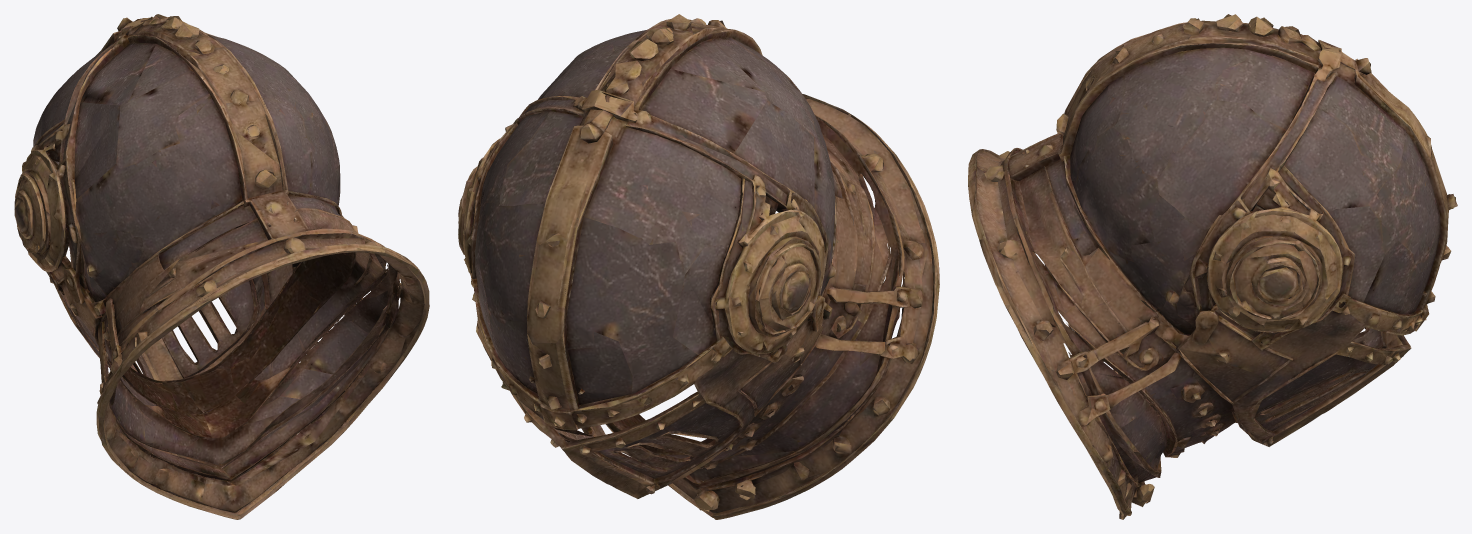
The picture shows the model from 3 angles, left to right: view 1: azimuth 30°, elevation 25°; view 2: azimuth 150°, elevation 25°; view 3: azimuth 270°, elevation 25°; orthographic projection. The views are drawn at different scales.
Visible parts, largest first — view 1: geometry_0; view 2: geometry_0; view 3: geometry_0.
Part boxes in pixels (x1,y1,x2,y2): geometry_0: (14,14,429,519); geometry_0: (458,14,939,519); geometry_0: (968,14,1457,519).
Bounding box in the file's own units: 0.7285 × 1 × 0.8816.
1 material, 1 textured.
